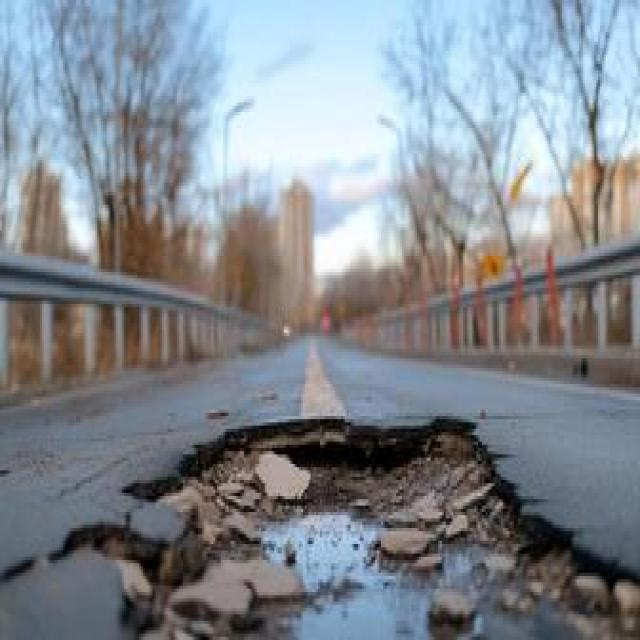road collapse: (38, 280, 640, 640)
